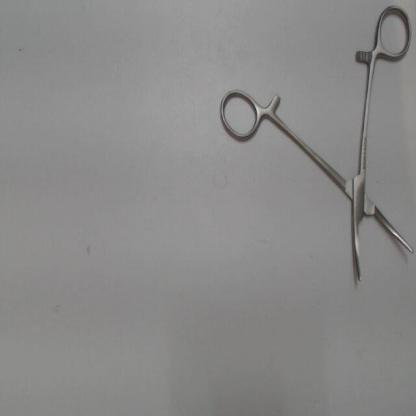Crile Artery Forceps: (215, 1, 414, 288)
